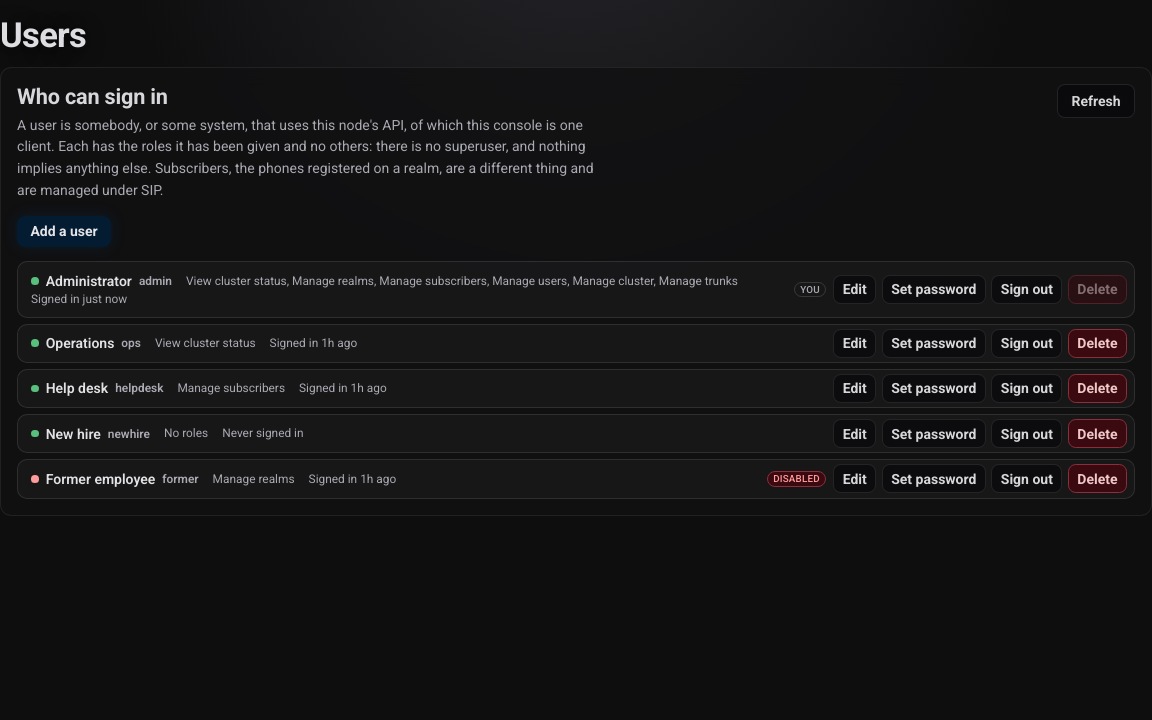
Test: UsersScreen › will not offer to disable you or remove your own right to manage users
The width and height of the screenshot is (1152, 720).
Click the button with aria-label "Edit admin".
click(855, 289)  # box [833,275,876,304]
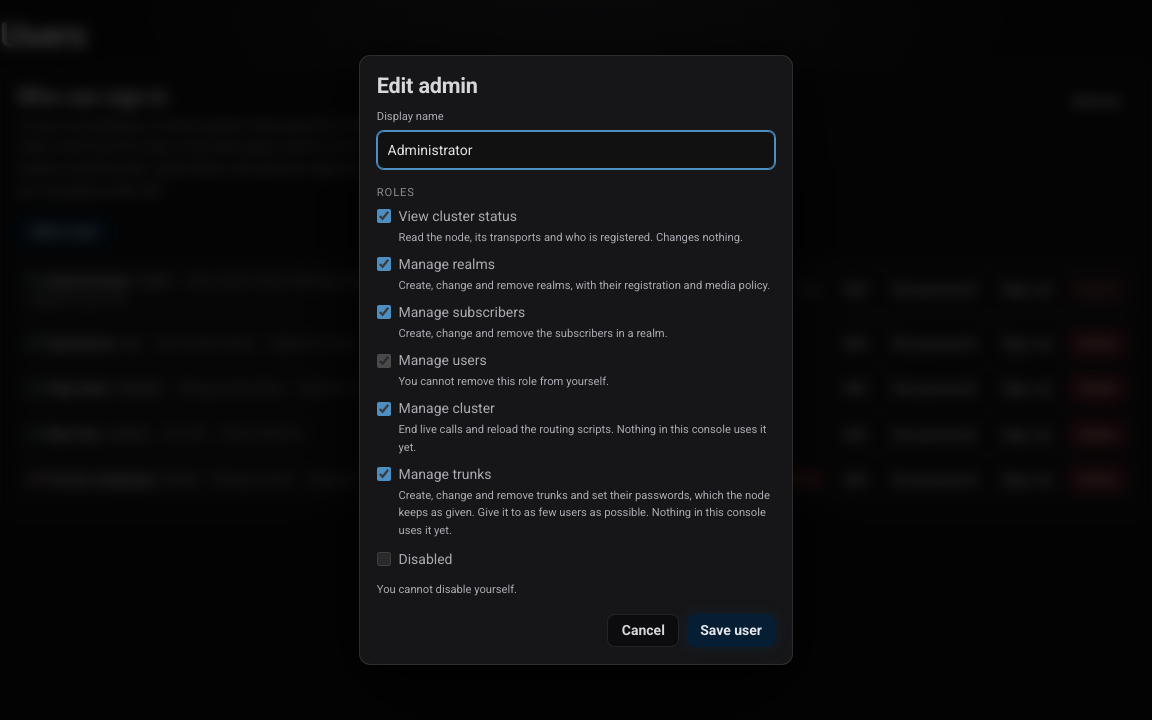
Check: the checkbox labelled "Manage users" is disabled, box [377,354,391,368]
Check: the checkbox labelled "Disabled" is disabled, box [377,552,391,566]
